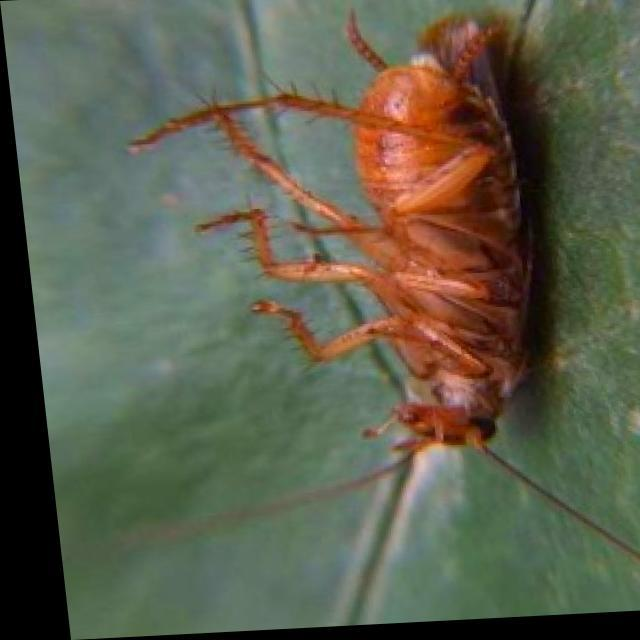cockroach: (160, 22, 546, 508)
